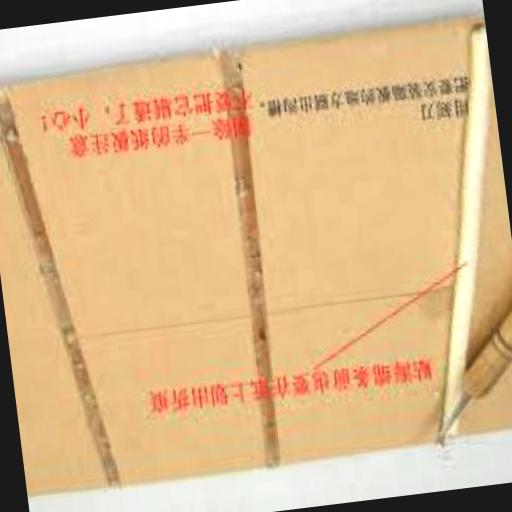cardboard: (231, 22, 512, 464), (8, 54, 278, 496), (0, 78, 114, 501)
